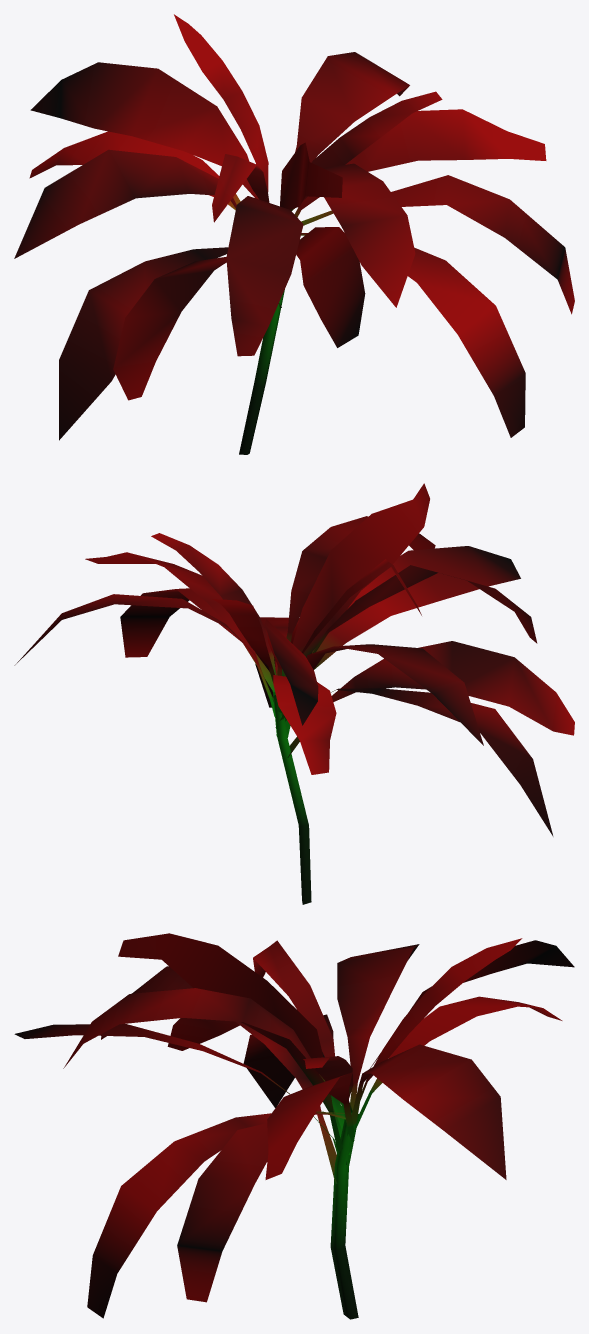
The model's file is Var10_LOD2.fbx.
3 renders of one model, top to bottom at view 1: azimuth 30°, elevation 25°; view 2: azimuth 150°, elevation 25°; view 3: azimuth 270°, elevation 25°, orthographic. The views are drawn at different scales.
Parts seen in each view (by area): view 1: _358b_Var10_LOD2; view 2: _358b_Var10_LOD2; view 3: _358b_Var10_LOD2.
Boxes of the visible parts, x1,y1,x2,y2 form: _358b_Var10_LOD2: (14,14,574,454); _358b_Var10_LOD2: (14,483,574,904); _358b_Var10_LOD2: (14,933,574,1319).
Size of the model in its own units: 33.39 by 24.55 by 32.33.
